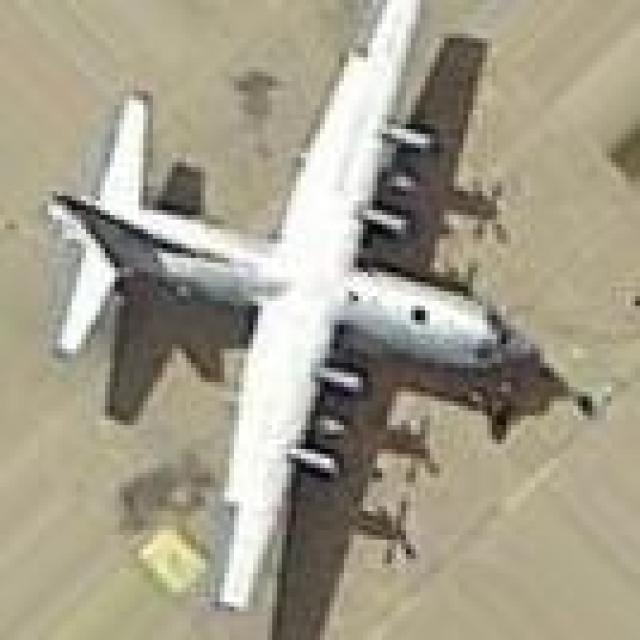C-130_TopDown: (45, 0, 574, 640)
